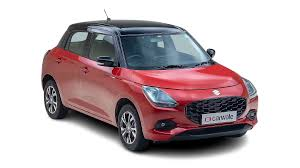Swift: (41, 10, 259, 149)
